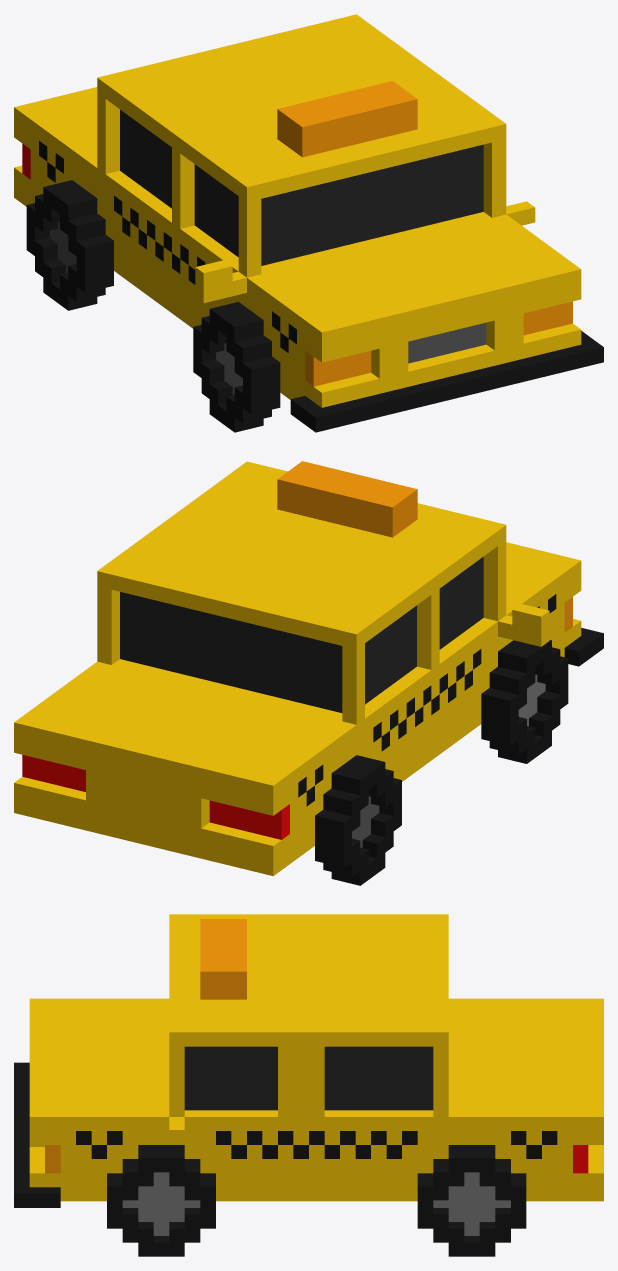
Rendered from yellowassets.vox.obj.
3 renders of one model, top to bottom at view 1: azimuth 30°, elevation 25°; view 2: azimuth 150°, elevation 25°; view 3: azimuth 270°, elevation 25°, orthographic. The views are drawn at different scales.
Size of the model in its own units: 2.3 by 1.7 by 3.8.
1 material, 1 textured.
